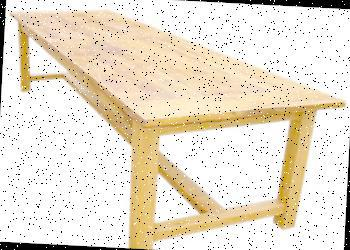Mesa: (0, 3, 349, 249)
